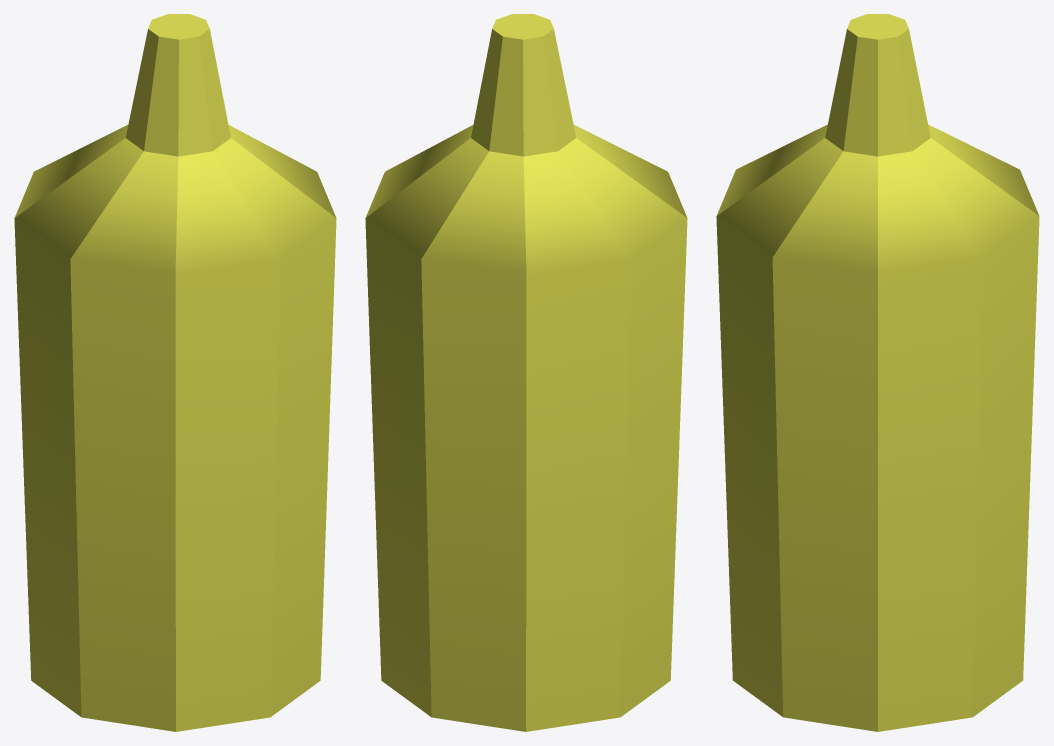
File: Sauce.fbx
The picture shows the model from 3 angles, left to right: view 1: azimuth 30°, elevation 25°; view 2: azimuth 150°, elevation 25°; view 3: azimuth 270°, elevation 25°; orthographic projection.
Visible parts, largest first — view 1: pCylinder1; view 2: pCylinder1; view 3: pCylinder1.
Boxes of the visible parts, box(x1,y1,x2,y2) form: pCylinder1: box(14, 14, 336, 731); pCylinder1: box(365, 14, 687, 731); pCylinder1: box(716, 14, 1039, 731).
Bounding box in the file's own units: 90.12 × 201 × 91.51.
